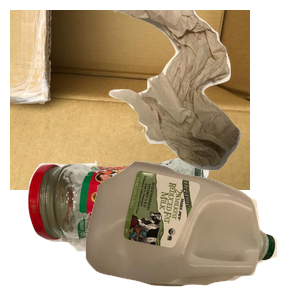cardboard: (10, 10, 250, 190)
glass: (25, 155, 227, 300)
plastic: (83, 159, 300, 300)
trash: (103, 10, 300, 173)
